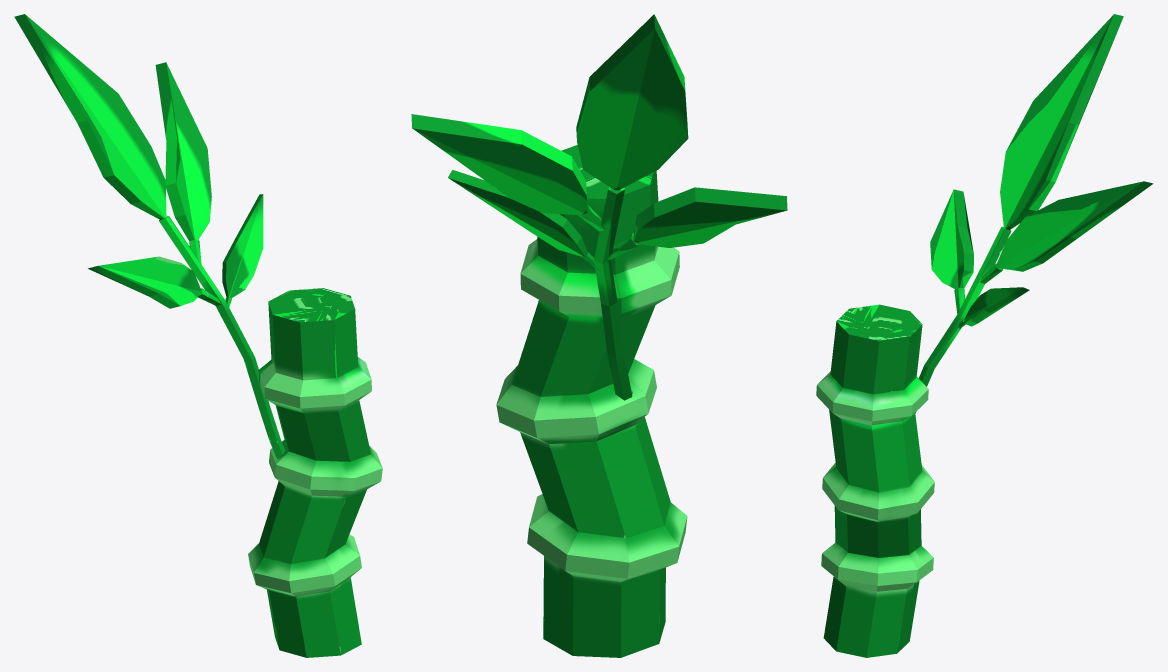
File: bamboo.fbx
3 renders of one model, left to right at view 1: azimuth 30°, elevation 25°; view 2: azimuth 150°, elevation 25°; view 3: azimuth 270°, elevation 25°, orthographic. The views are drawn at different scales.
Parts seen in each view (by area): view 1: bamboo; view 2: bamboo; view 3: bamboo.
Part boxes in pixels (bbox=[...]): bamboo: bbox=[14, 14, 382, 657]; bamboo: bbox=[411, 14, 787, 657]; bamboo: bbox=[816, 14, 1153, 657].
Bounding box in the file's own units: 30.66 × 68.61 × 38.13.
Materials: 1 (1 with a texture image).
